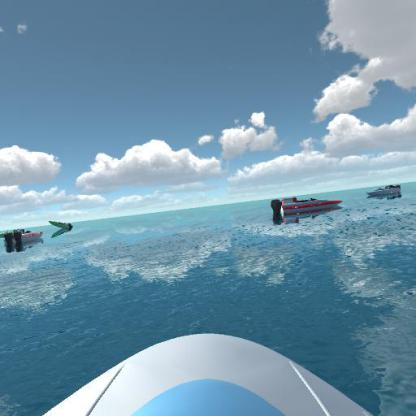usv0: (47, 218, 78, 238), (0, 226, 18, 241)
usv1: (364, 182, 404, 201)
usv3: (268, 193, 346, 225), (4, 228, 44, 248)
